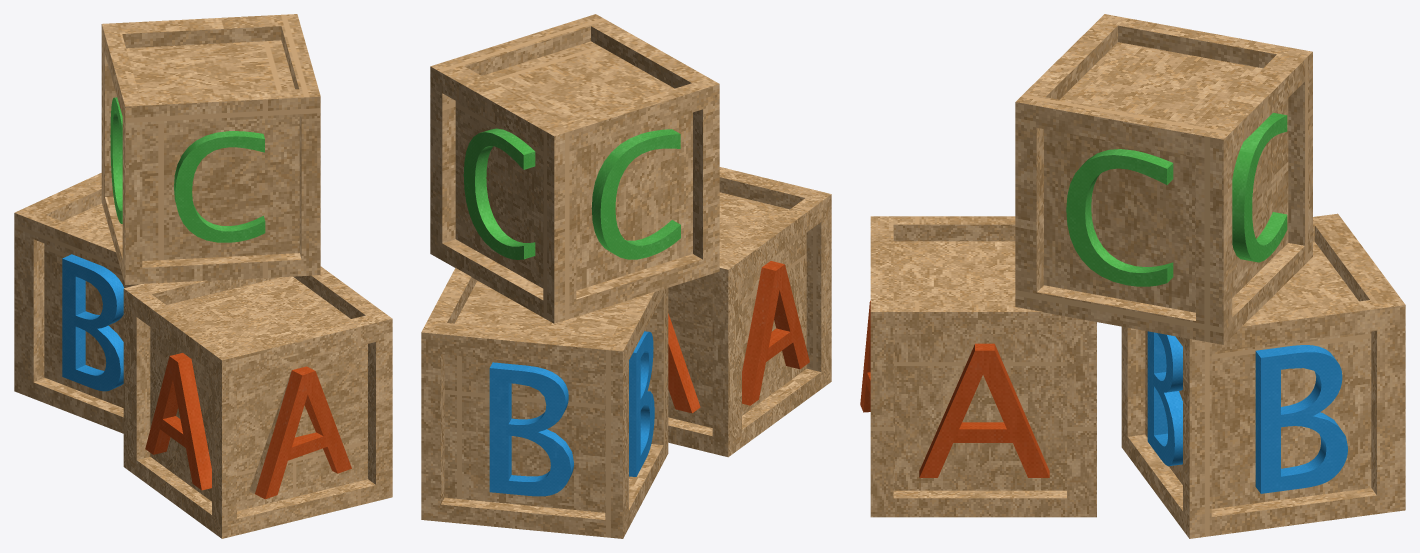
File: Cubi_Arianna.fbx
3 renders of one model, left to right at view 1: azimuth 30°, elevation 25°; view 2: azimuth 150°, elevation 25°; view 3: azimuth 270°, elevation 25°, orthographic. The views are drawn at different scales.
Visible parts, largest first — view 1: cuboA, cuboC, cuboB.004; view 2: cuboC, cuboB.004, cuboA; view 3: cuboC, cuboB.004, cuboA.
Boxes of the visible parts, left/top/right/bottom form: cuboA: left=123, top=266, right=392, bottom=538; cuboC: left=101, top=14, right=320, bottom=284; cuboB.004: left=14, top=173, right=138, bottom=433; cuboC: left=430, top=14, right=719, bottom=323; cuboB.004: left=421, top=268, right=668, bottom=538; cuboA: left=668, top=167, right=831, bottom=457; cuboC: left=1015, top=14, right=1312, bottom=344; cuboB.004: left=1121, top=213, right=1405, bottom=538; cuboA: left=860, top=216, right=1096, bottom=517.
Bounding box in the file's own units: 0.4969 × 0.7259 × 0.8746.
4 materials, 4 textured.
